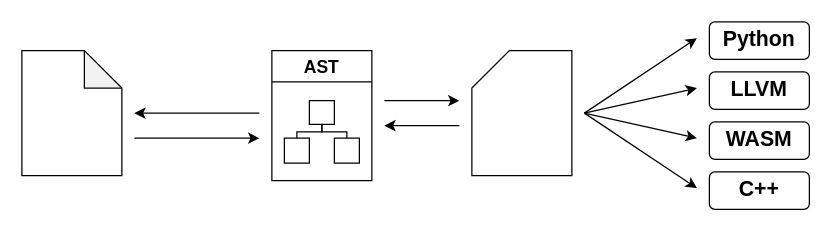
This 831x231 diagram has some shape labels left out. The shapes that lost their labels are listed below. From the top down, each one's centre as x and y in pixels, then its label:
At pixel 71 112: "Source Code".
At pixel 521 112: "ASR".
